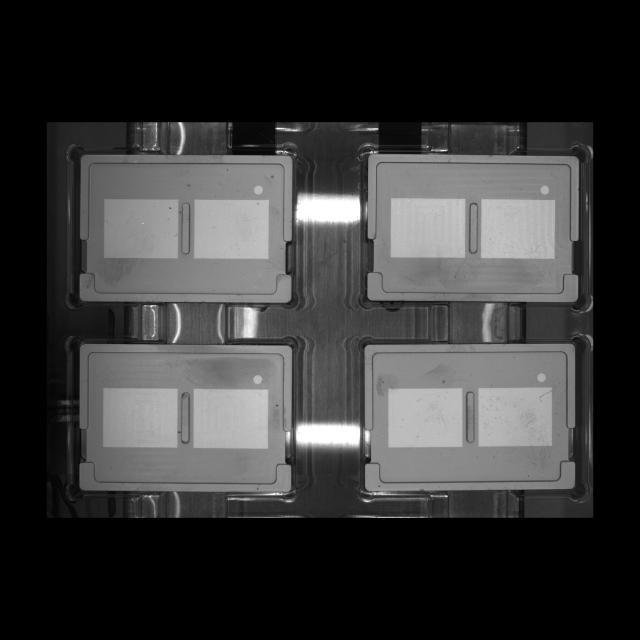product: (62, 140, 308, 314), (350, 142, 592, 315), (61, 333, 301, 504), (357, 331, 590, 506)
